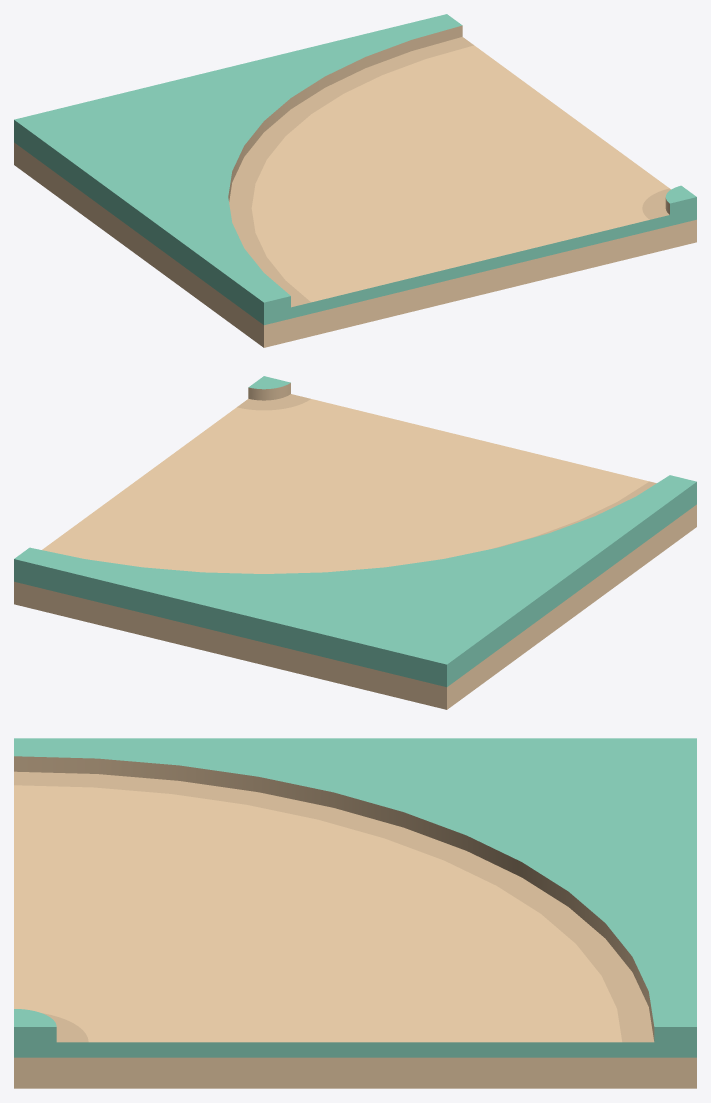
Rendered from tile_wideCorner.glb.
3 renders of one model, top to bottom at view 1: azimuth 30°, elevation 25°; view 2: azimuth 150°, elevation 25°; view 3: azimuth 270°, elevation 25°, orthographic. The views are drawn at different scales.
Visible parts, largest first — view 1: tile_wideCorner; view 2: tile_wideCorner; view 3: tile_wideCorner.
Boxes of the visible parts, box(x1,y1,x2,y2) form: tile_wideCorner: box(14, 14, 696, 347); tile_wideCorner: box(14, 376, 696, 709); tile_wideCorner: box(14, 738, 696, 1088).
Bounding box in the file's own units: 2 × 0.2 × 2.
